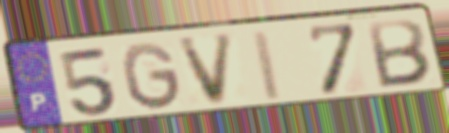5: (56, 44, 120, 119)
7: (308, 20, 358, 98)
B: (365, 17, 433, 90)
G: (118, 40, 185, 113)
I: (249, 28, 286, 104)
V: (176, 30, 238, 109)
